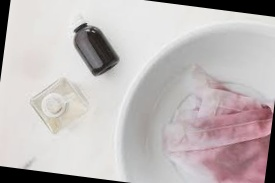wine: (169, 91, 274, 183)
